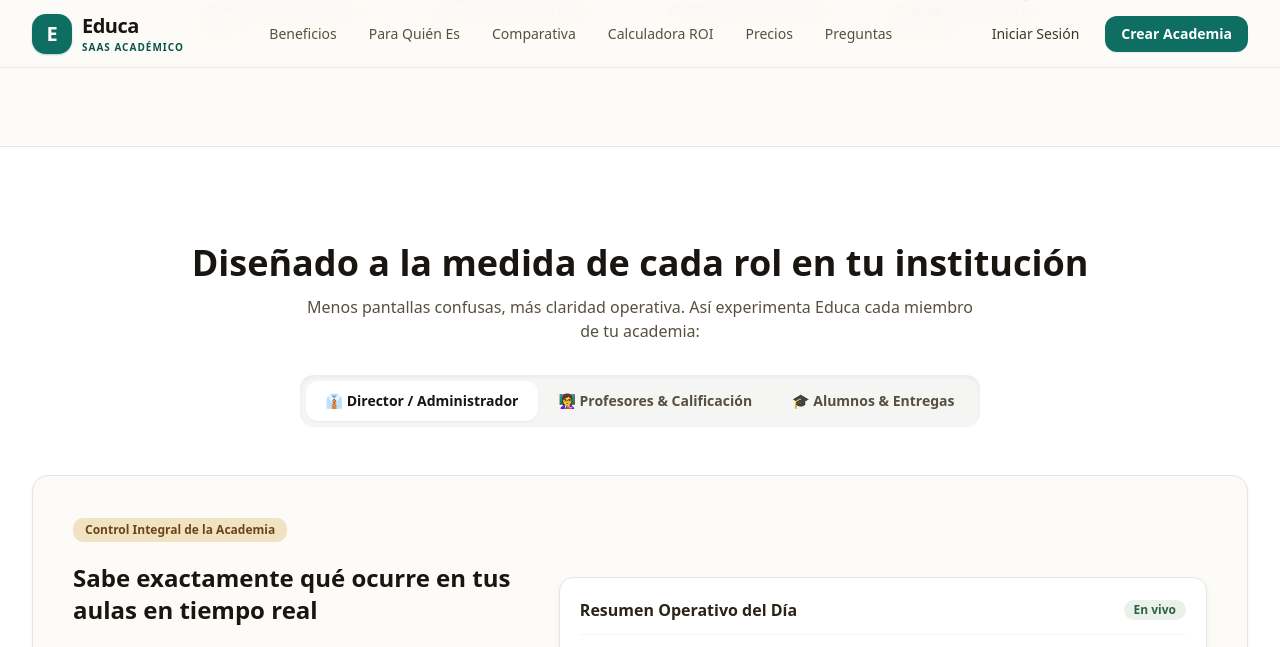
Test case: LandingPage › allows switching between Director, Profesores and Alumnos tabs
(page scrolled)
Expected: the heading "Sabe exactamente qué ocurre en tus aulas en tiempo real" is shown, left=73, top=562, right=527, bottom=626
Click the button "👩‍🏫 Profesores & Calificación": [655, 401] box left=538, top=381, right=772, bottom=421
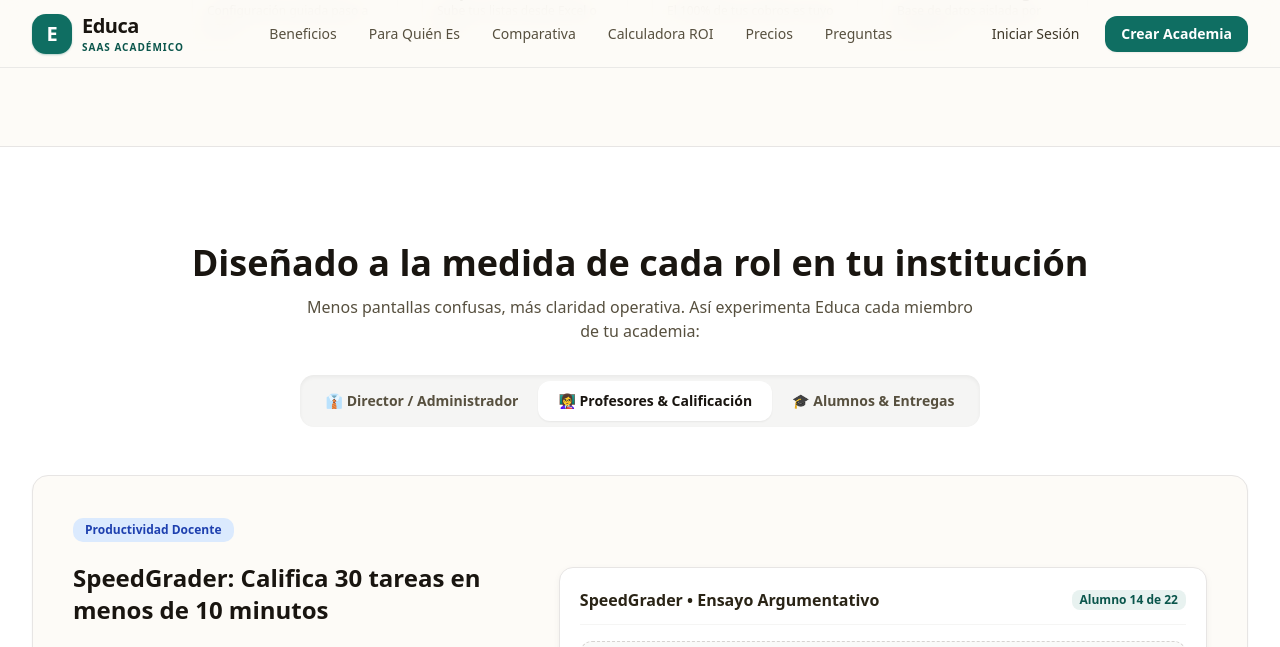
Now the heading "SpeedGrader: Califica 30 tareas en menos de 10 minutos" is shown, box left=73, top=562, right=527, bottom=626
Click the button "🎓 Alumnos & Entregas": [873, 401] box left=772, top=381, right=974, bottom=421
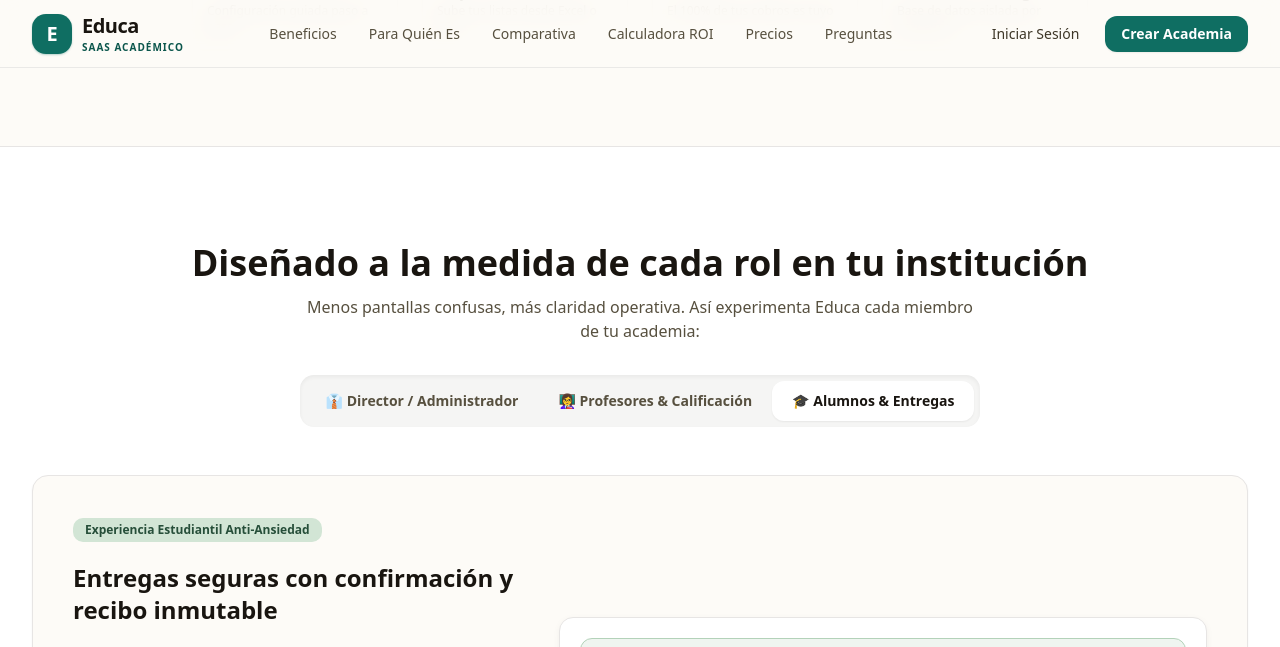
Now the heading "Entregas seguras con confirmación y recibo inmutable" is shown, box left=73, top=562, right=527, bottom=626
